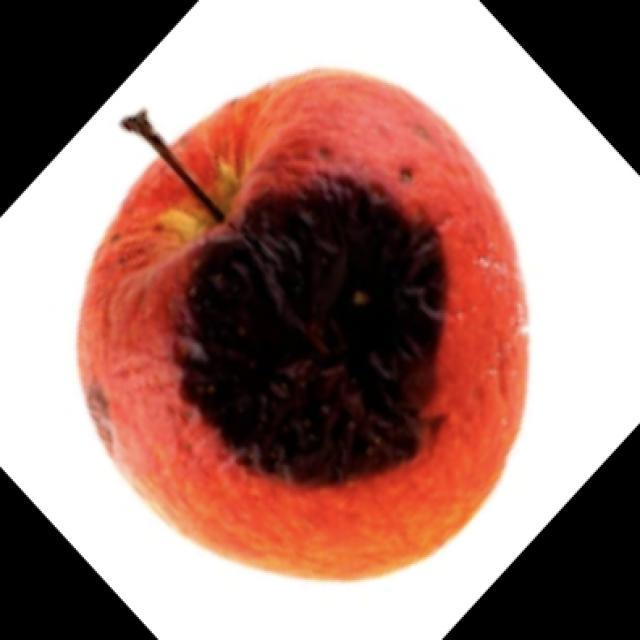Rotten: (94, 78, 534, 547)
